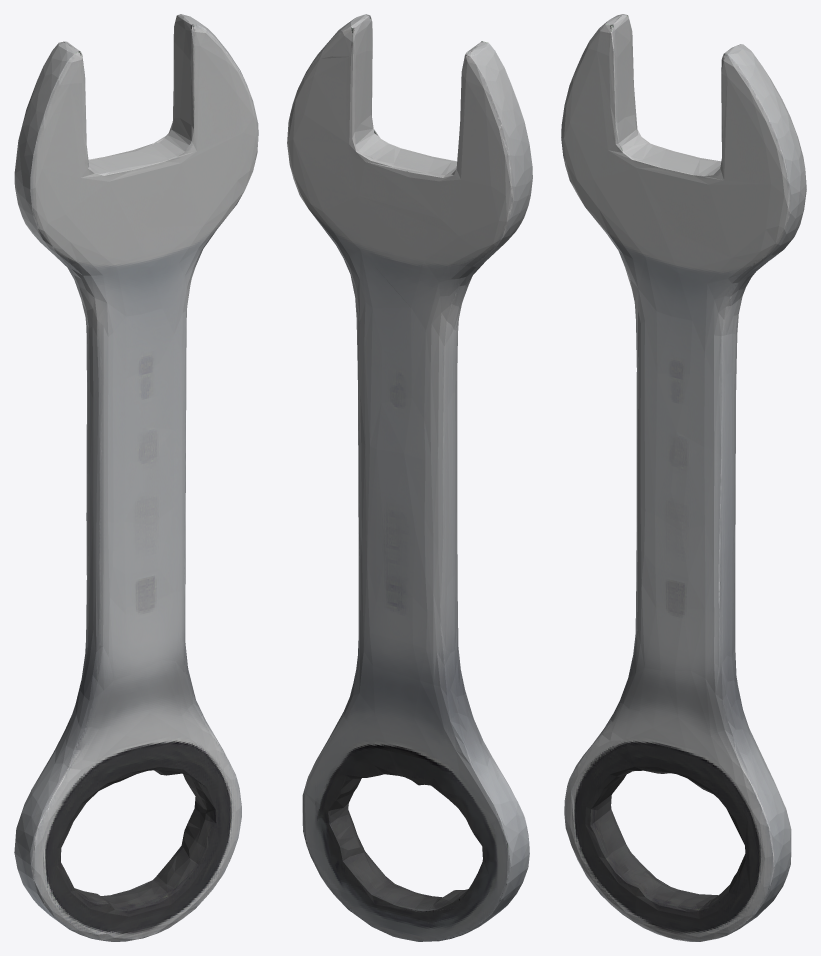
The model's file is wrench_visual_0.obj.
3 views of the same model, side by side, from view 1: azimuth 30°, elevation 25°; view 2: azimuth 150°, elevation 25°; view 3: azimuth 330°, elevation 25° (orthographic).
Bounding box in the file's own units: 0.2697 × 1 × 0.0446.
1 material, 1 textured.
